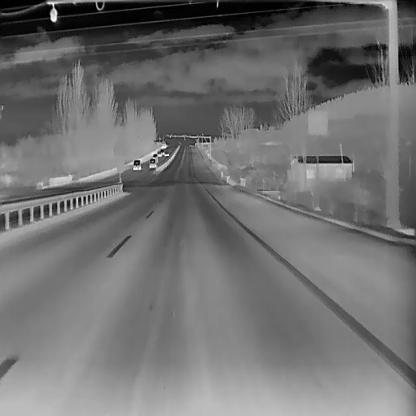car: (132, 158, 141, 170), (148, 158, 156, 168), (151, 153, 158, 162), (163, 149, 169, 157), (159, 148, 164, 155), (157, 149, 161, 157)
